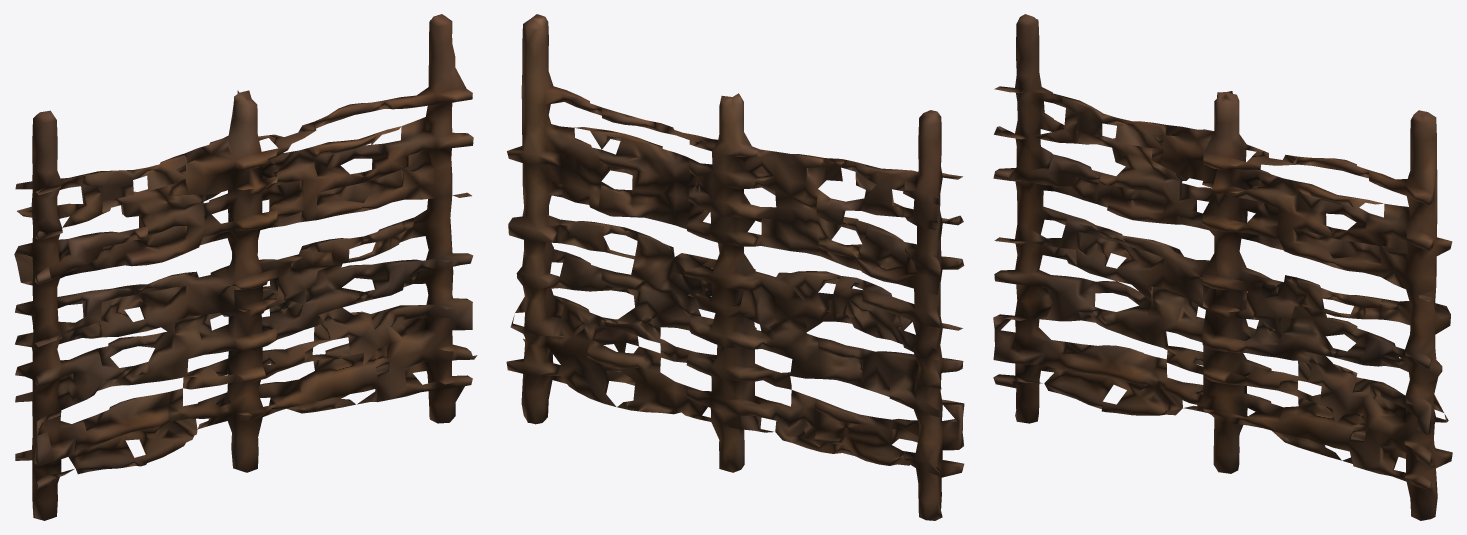
The model's file is zaun_geflochten2.glb.
3 views of the same model, side by side, from view 1: azimuth 30°, elevation 25°; view 2: azimuth 150°, elevation 25°; view 3: azimuth 330°, elevation 25° (orthographic).
Bounding box in the file's own units: 1.98 × 1.74 × 0.192.
